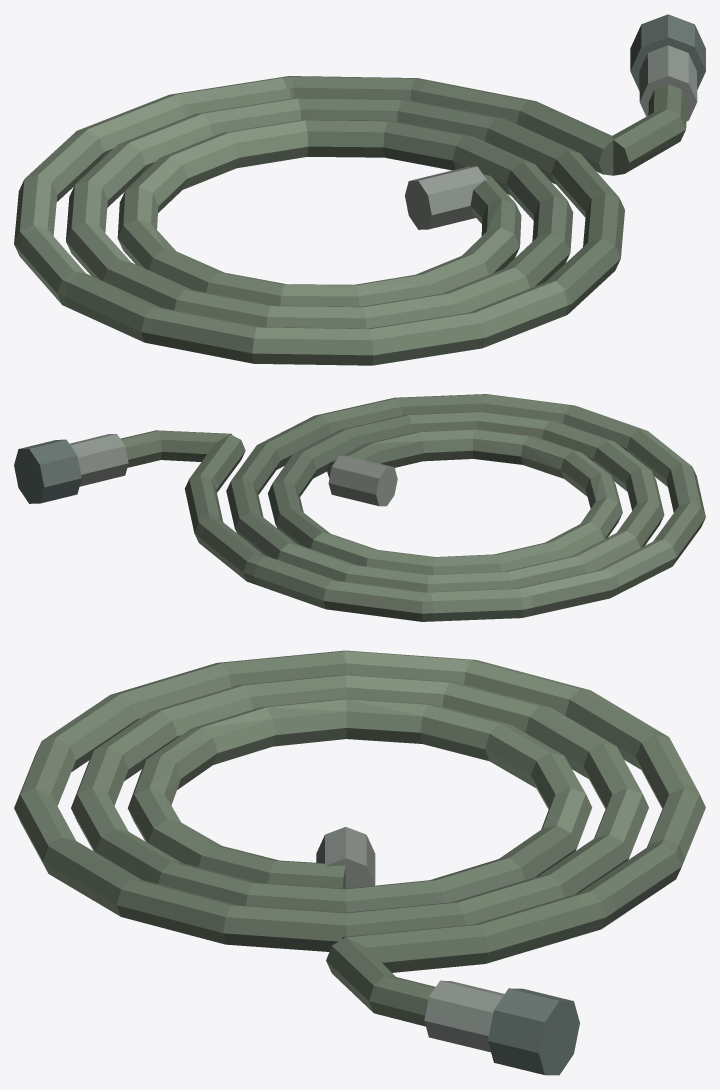
The model's file is hose-coil.glb.
3 renders of one model, top to bottom at view 1: azimuth 30°, elevation 25°; view 2: azimuth 150°, elevation 25°; view 3: azimuth 270°, elevation 25°, orthographic. The views are drawn at different scales.
Visible parts, largest first — view 1: hose-coil/three-turn-hose, hose-coil/loose-end, hose-coil/inner-end-fitting, hose-coil/spray-tip, hose-coil/hose-fitting; view 2: hose-coil/three-turn-hose, hose-coil/spray-tip, hose-coil/loose-end, hose-coil/inner-end-fitting, hose-coil/hose-fitting; view 3: hose-coil/three-turn-hose, hose-coil/spray-tip, hose-coil/loose-end, hose-coil/hose-fitting, hose-coil/inner-end-fitting.
Boxes of the visible parts, left/top/right/bottom form: hose-coil/three-turn-hose: left=14, top=76, right=624, bottom=365; hose-coil/loose-end: left=612, top=84, right=687, bottom=175; hose-coil/inner-end-fitting: left=405, top=166, right=486, bottom=229; hose-coil/spray-tip: left=630, top=14, right=705, bottom=91; hose-coil/hose-fitting: left=639, top=45, right=697, bottom=120; hose-coil/three-turn-hose: left=184, top=394, right=705, bottom=621; hose-coil/spray-tip: left=14, top=439, right=81, bottom=503; hose-coil/loose-end: left=120, top=430, right=231, bottom=467; hose-coil/inner-end-fitting: left=328, top=455, right=397, bottom=506; hose-coil/hose-fitting: left=70, top=434, right=128, bottom=486; hose-coil/three-turn-hose: left=14, top=650, right=705, bottom=972; hose-coil/spray-tip: left=488, top=988, right=579, bottom=1075; hose-coil/loose-end: left=326, top=937, right=435, bottom=1026; hose-coil/hose-fitting: left=424, top=980, right=504, bottom=1052; hose-coil/inner-end-fitting: left=316, top=827, right=375, bottom=888.
Bounding box in the file's own units: 0.4727 × 0.042 × 0.353.
Materials: 3 (3 with a texture image).
